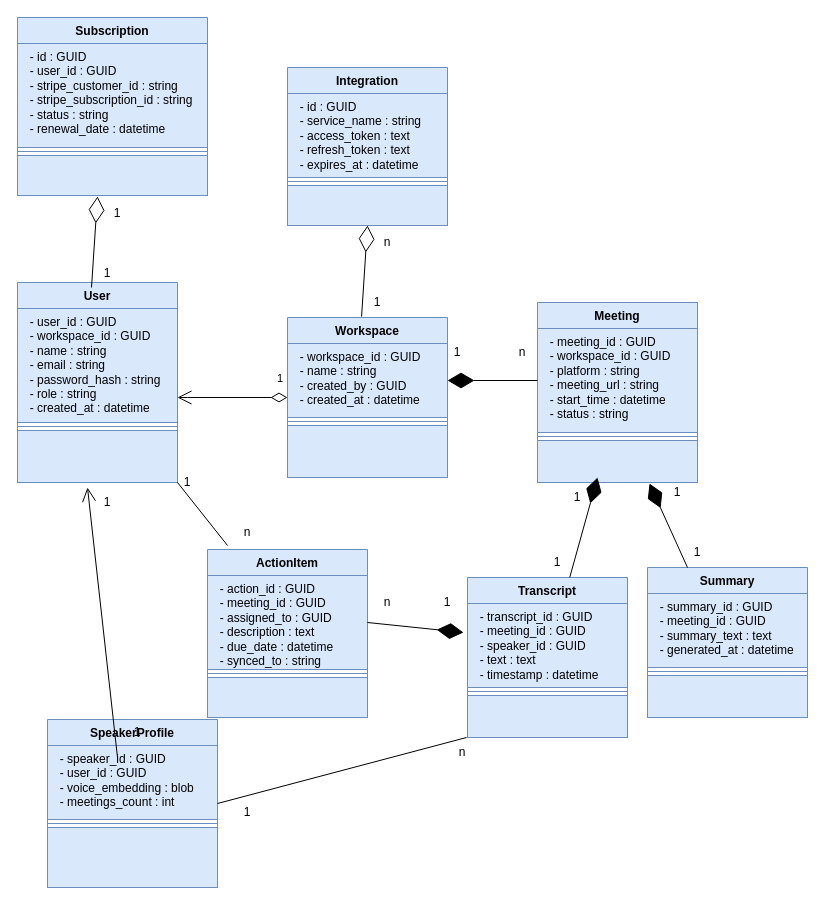
Image size: 825x908. Some labels were removed from this diagram. The shapes that lost their labels are listed below. From the top down, each one's centre as x and y in pixels, then its label:
At (112,175): "+ upgradePlan() + cancel()".
At (367,205): "+ refreshToken() + revoke()".
At (97,456): "+ login() + updateProfile() + joinWorkspace()".
At (367,451): "+ addUser() + removeUser() + getMeetings()".
At (617,461): "+ schedule() + updateStatus()".
At (287,697): "+ assignUser() + syncToPMTool()".
At (547,716): "+ processChunk() + linkSpeaker()".
At (727,696): "+ generate() + getHighlights()".
At (132,857): "+ updateEmbedding() + incrementMeetingCount()".
